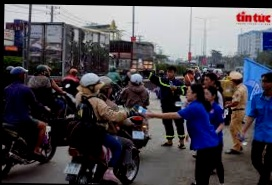Bien-so: (73, 169, 93, 185), (138, 132, 151, 142)
